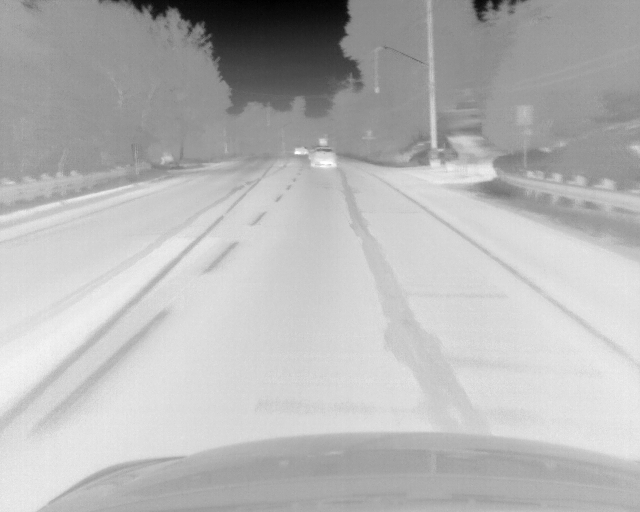car: (309, 146, 337, 170), (294, 145, 308, 156)
